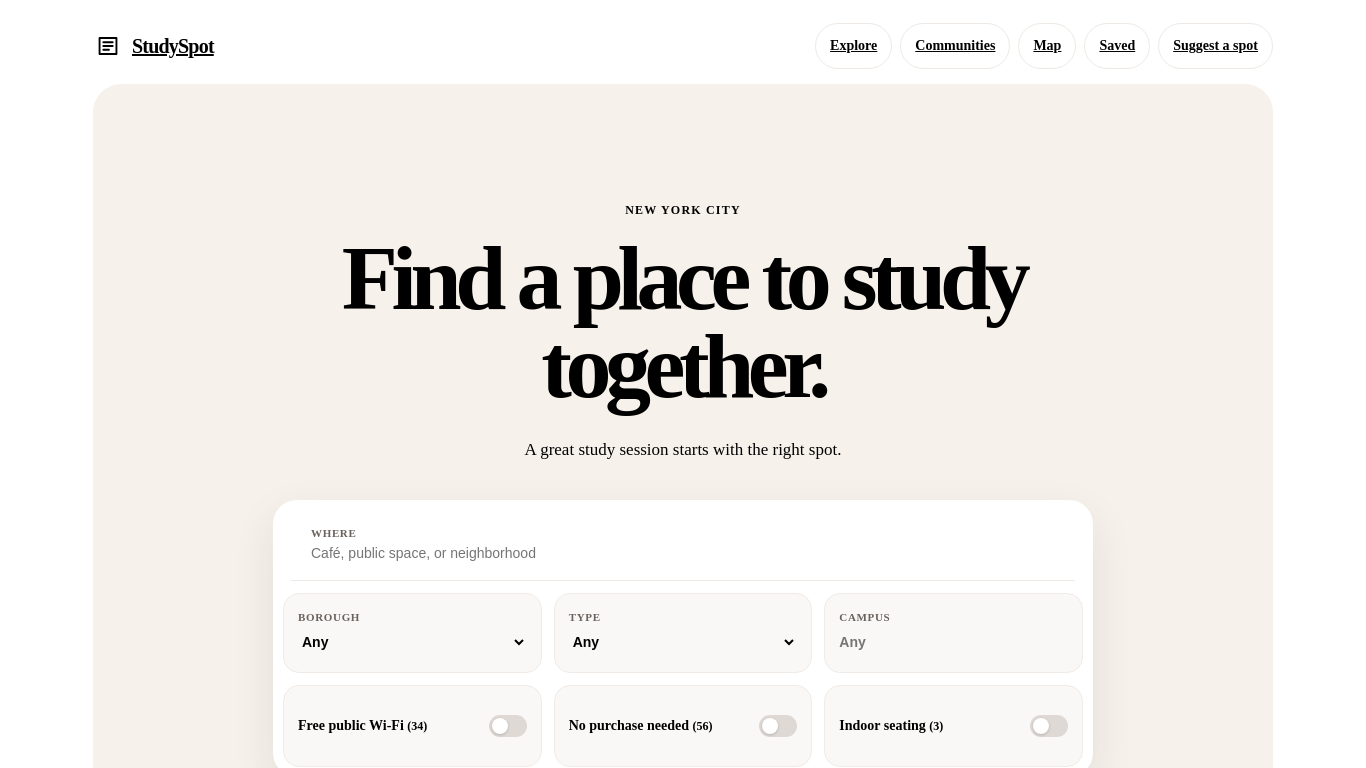
Test: the search box › searches for what it holds when submitted
In the field labelled "Where": [625, 553] box [311,544,939,563], type "library"
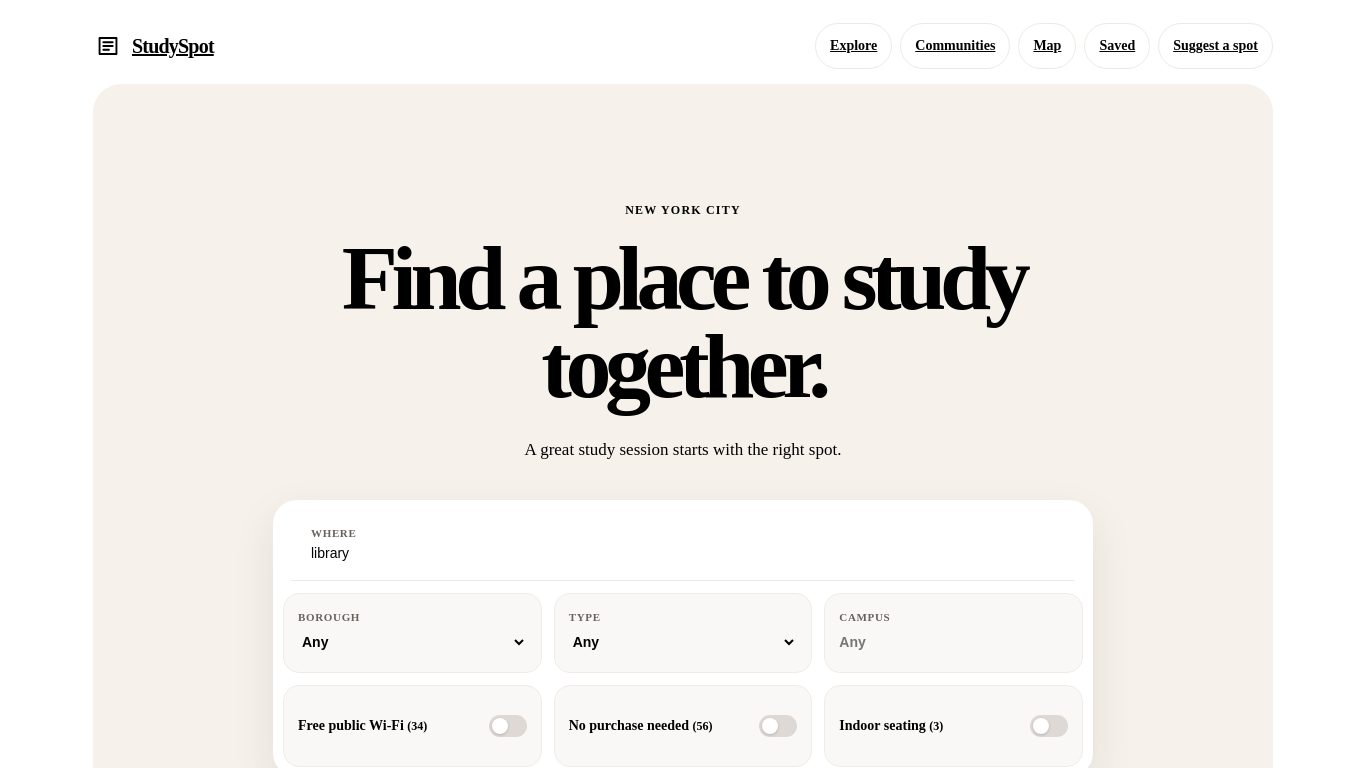
Click the button "Search": [1025, 545] box [959,518,1091,572]
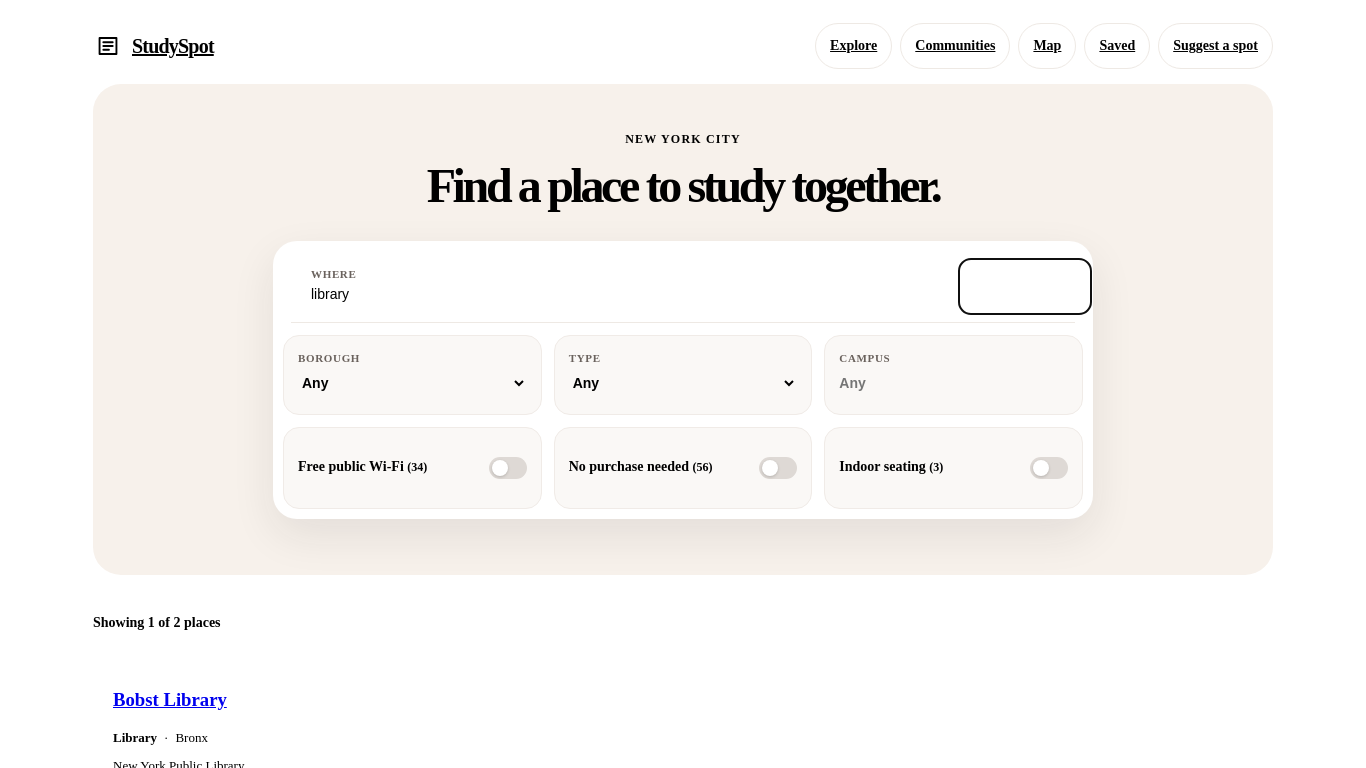
expect the link "Bobst Library" is shown: met, box [113,689,227,710]
